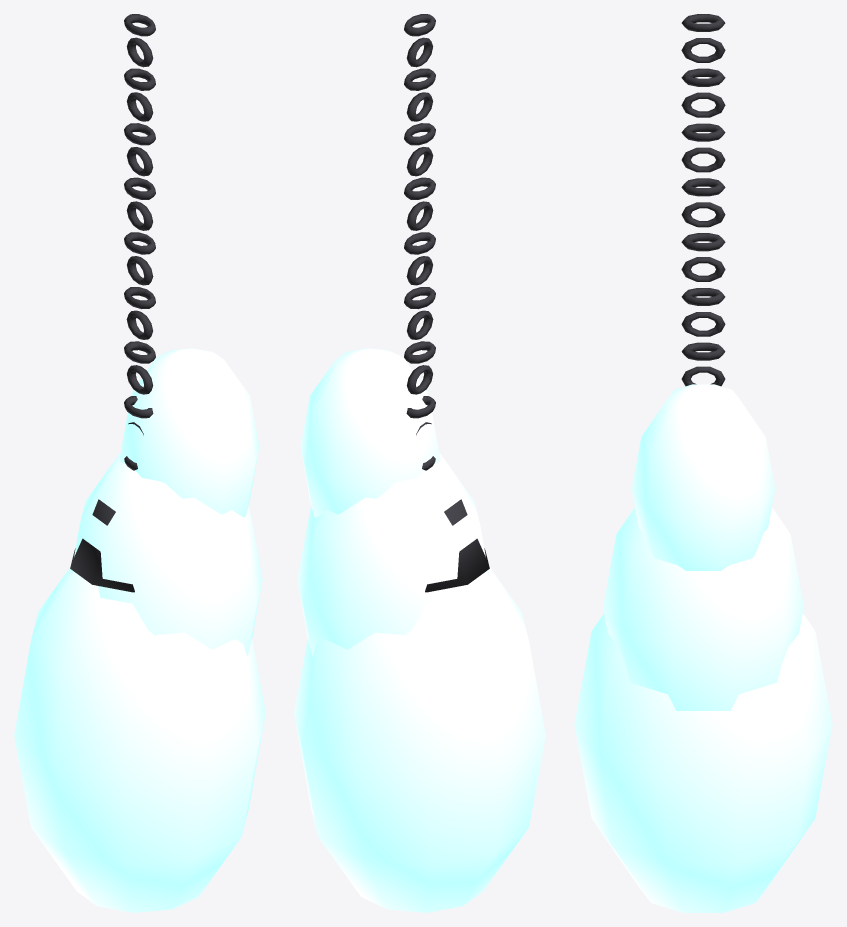
The model's file is floating_light_ghost_flame.glb.
3 renders of one model, left to right at view 1: azimuth 30°, elevation 25°; view 2: azimuth 150°, elevation 25°; view 3: azimuth 270°, elevation 25°, orthographic.
Parts seen in each view (by area): view 1: GD_floating_light_ghost_flame__m1, GD_floating_light_ghost_flame__m0; view 2: GD_floating_light_ghost_flame__m1, GD_floating_light_ghost_flame__m0; view 3: GD_floating_light_ghost_flame__m1, GD_floating_light_ghost_flame__m0.
Part boxes in pixels (x1=…): GD_floating_light_ghost_flame__m1: x1=14, y1=348, x2=265, y2=912; GD_floating_light_ghost_flame__m0: x1=70, y1=14, x2=155, y2=592; GD_floating_light_ghost_flame__m1: x1=294, y1=348, x2=545, y2=912; GD_floating_light_ghost_flame__m0: x1=404, y1=14, x2=489, y2=592; GD_floating_light_ghost_flame__m1: x1=574, y1=384, x2=832, y2=912; GD_floating_light_ghost_flame__m0: x1=681, y1=14, x2=725, y2=386.
Bounding box in the file's own units: 0.1731 × 0.6867 × 0.18.
